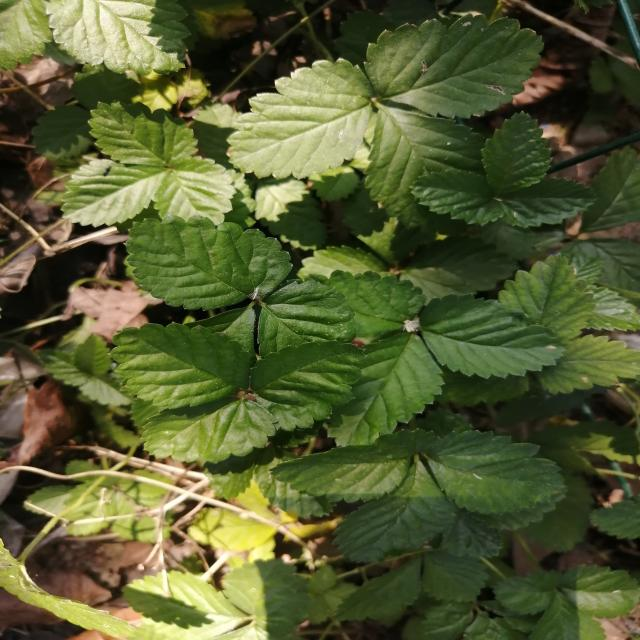Mock_strawberry: (88, 216, 541, 459), (257, 31, 601, 233)
